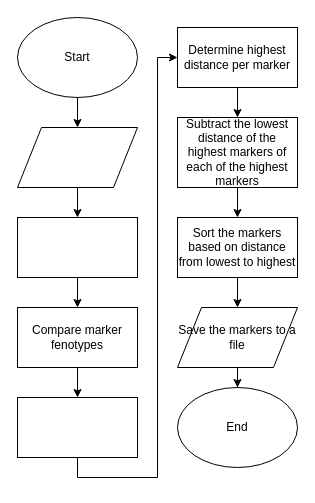
Some shapes in this 315 by 503 pixel diagram are drawn without their labels. The shapes that lost their labels are listed below. From the top down, each one's centre as x and y in pixels, then its label:
At pixel 77 157: "Read file containing markers".
At pixel 77 247: "Extract marker names and fenotypes".
At pixel 77 427: "Calculate distance between markers".
